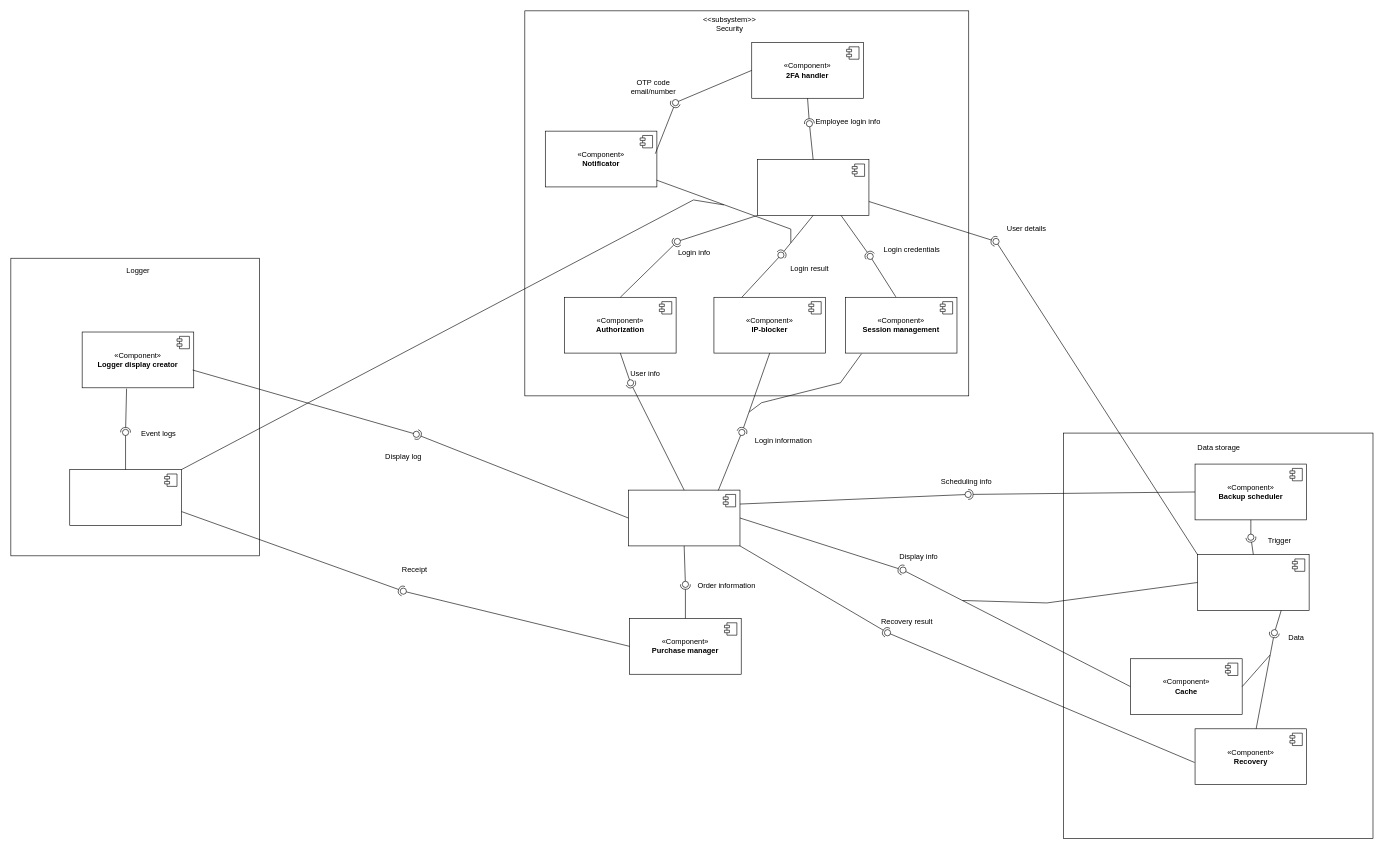
The diagram is 1384 pixels wide and 849 high, and some of its shapes have lost their labels. Here are the shapes that lost their labels. From the top down, the centre of each, then its label:
At (x=813, y=187): "«Component» Authentication".
At (x=125, y=497): "«Component» Automated logging system".
At (x=684, y=517): "«Component» User interface".
At (x=1253, y=582): "«Component» Database".
